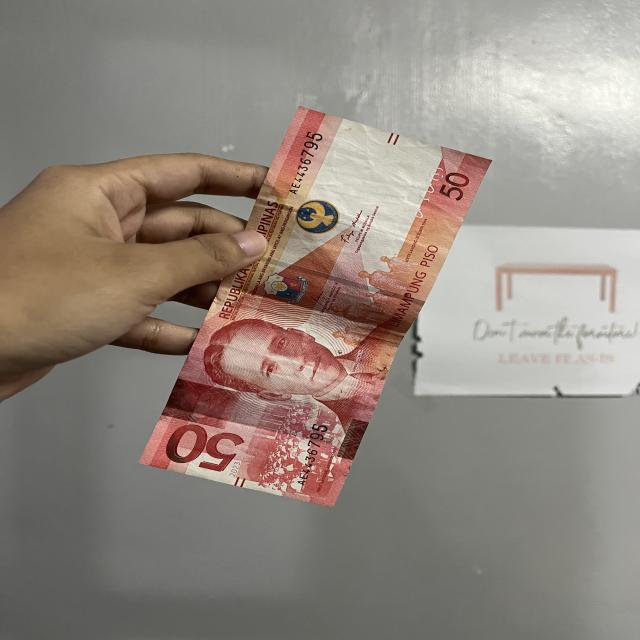concealed_value: (159, 380, 244, 429)
see_through_mark: (402, 161, 455, 234)
value: (169, 413, 256, 482)
